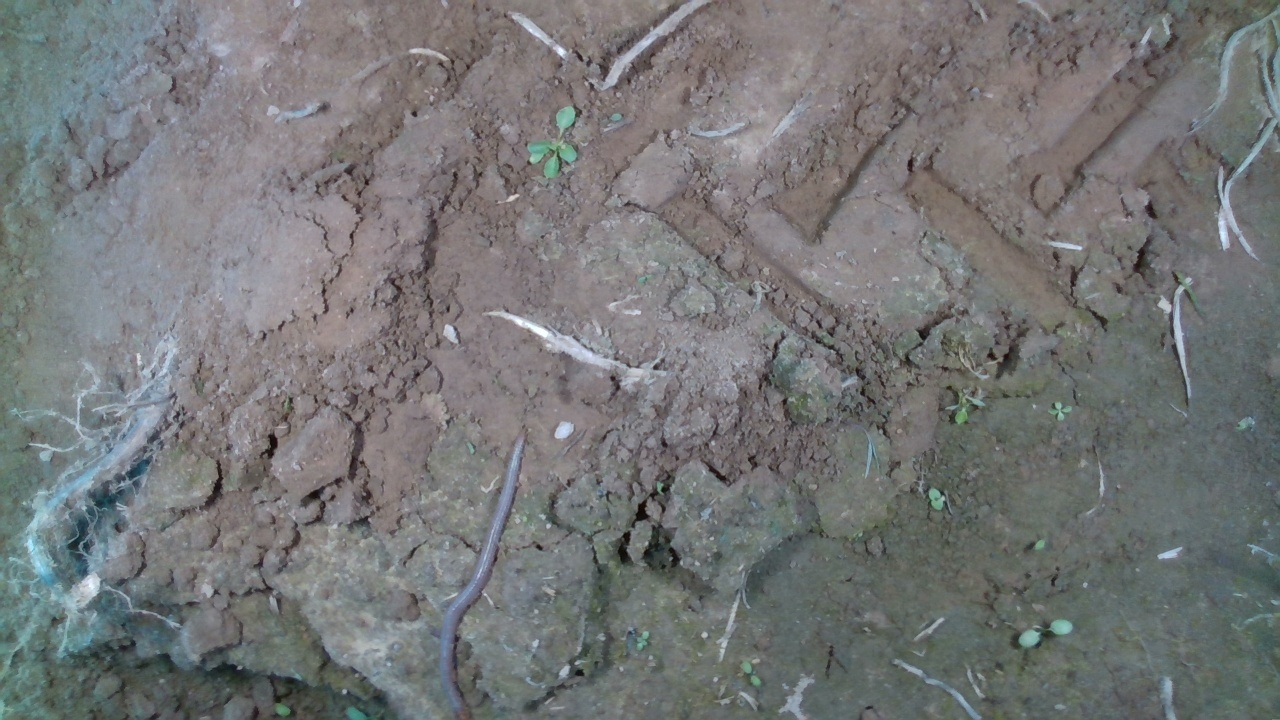weed: (1017, 618, 1074, 649), (739, 661, 762, 689), (1046, 400, 1073, 422), (926, 486, 944, 513), (634, 630, 649, 652)
